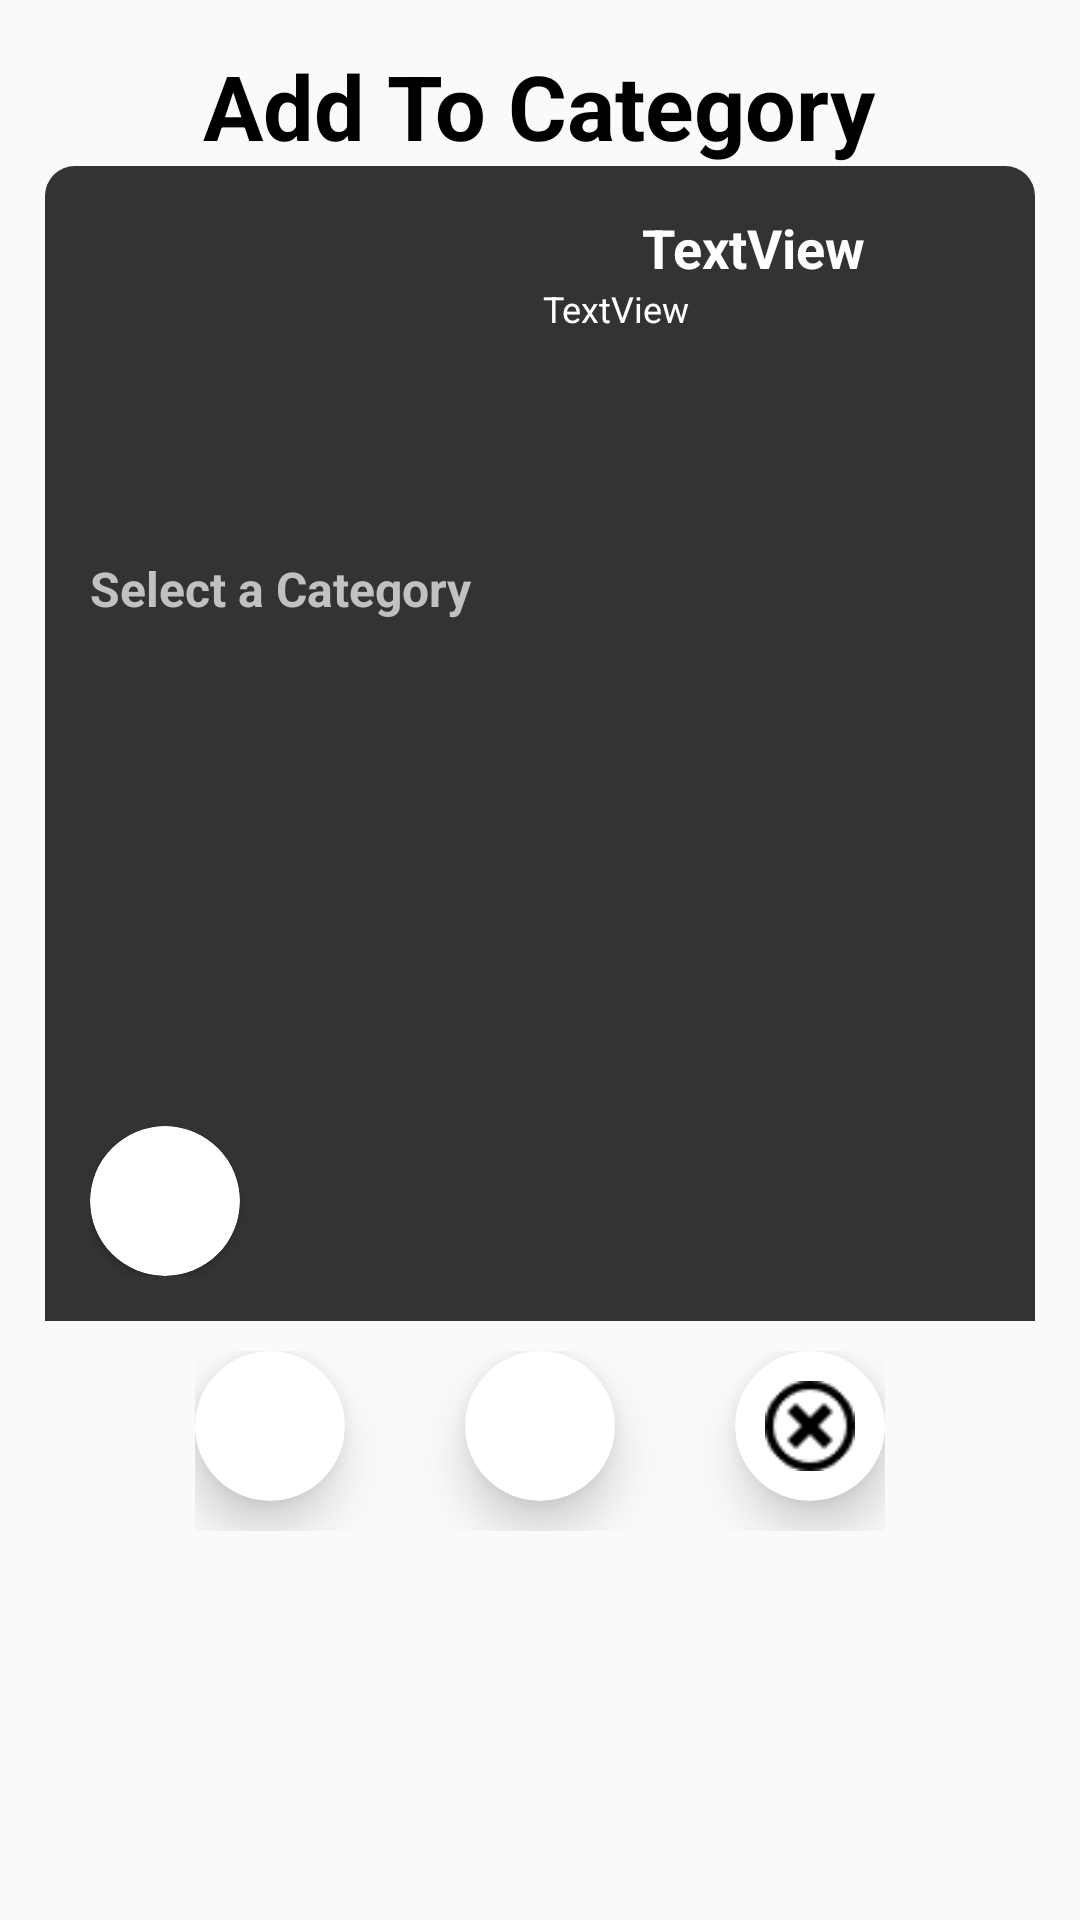

Screen size 1080px×1920px. Icon name, then its box in pixels as bbox=[x1, y1, x2, y2]:
close: bbox=[765, 1381, 855, 1471]
